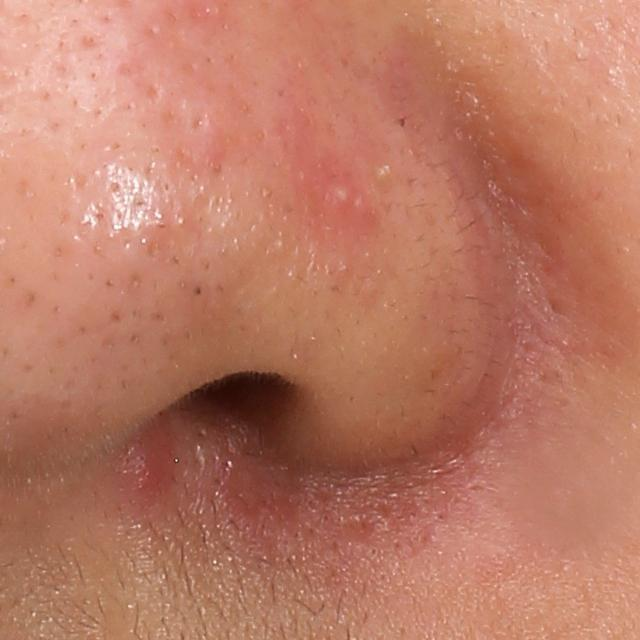papule: (118, 420, 188, 506)
pustule: (327, 175, 357, 206)
